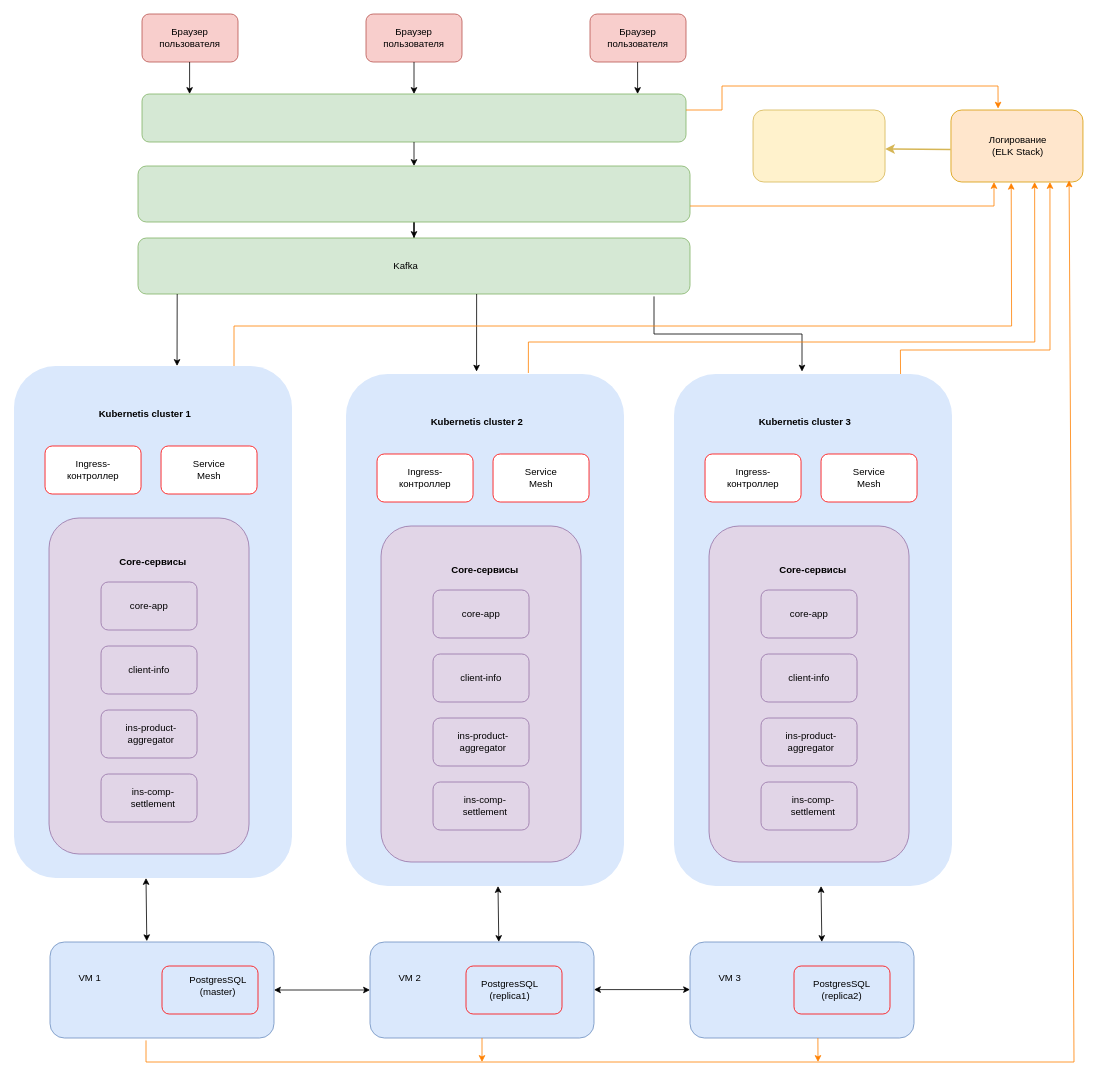
This 1097x1082 diagram has some shape labels left out. Here are the shapes that lost their labels. From the top down, the box of each, then its label:
(141, 93, 686, 142): Глобальный балансировщик (GLB)
(752, 109, 885, 182): Мониторинг (Prometeus, Grafana)
(137, 165, 690, 222): CDN + Redis для ускорения доступа к данным
